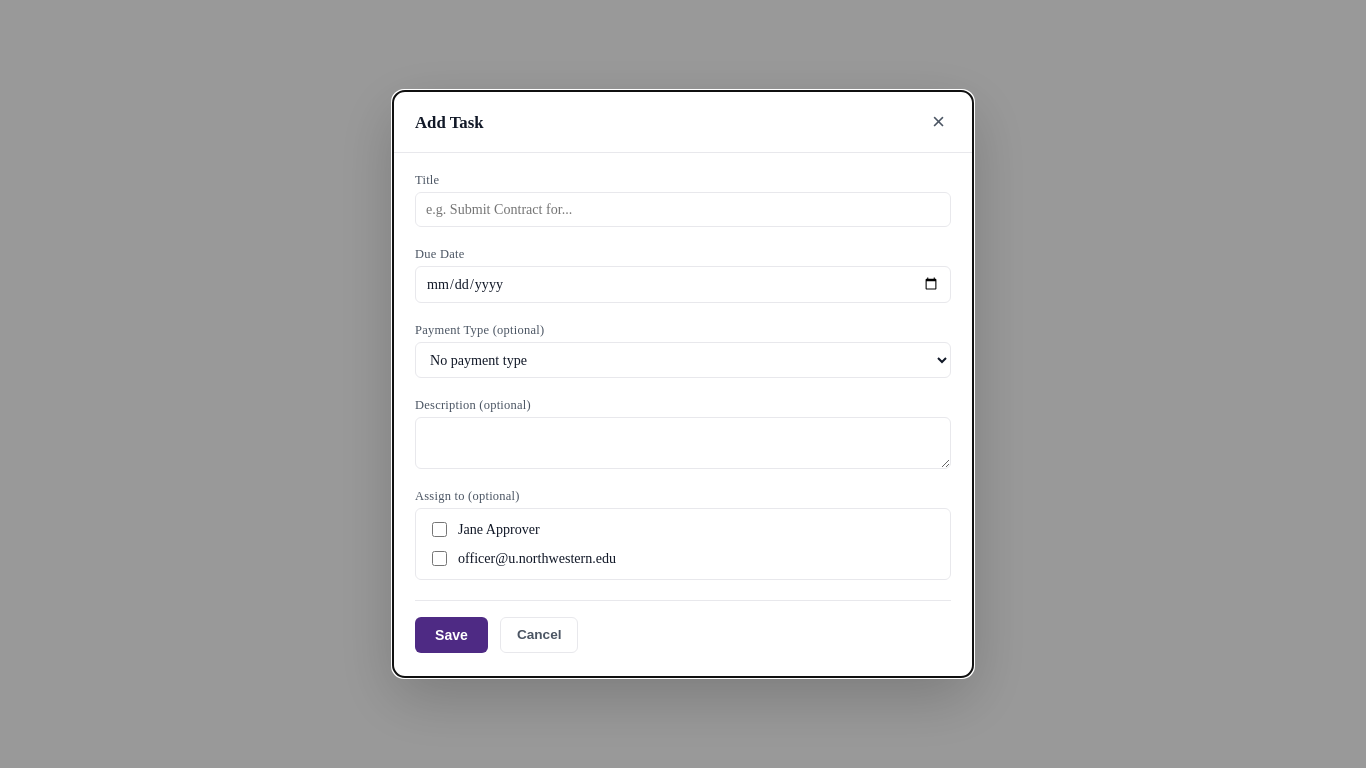
Scenario: TaskFormModal › shows a validation error and does not save when title is missing
Type "2026-09-25" into the date field labelled "Due Date" at (683,284), box [415, 266, 951, 303]
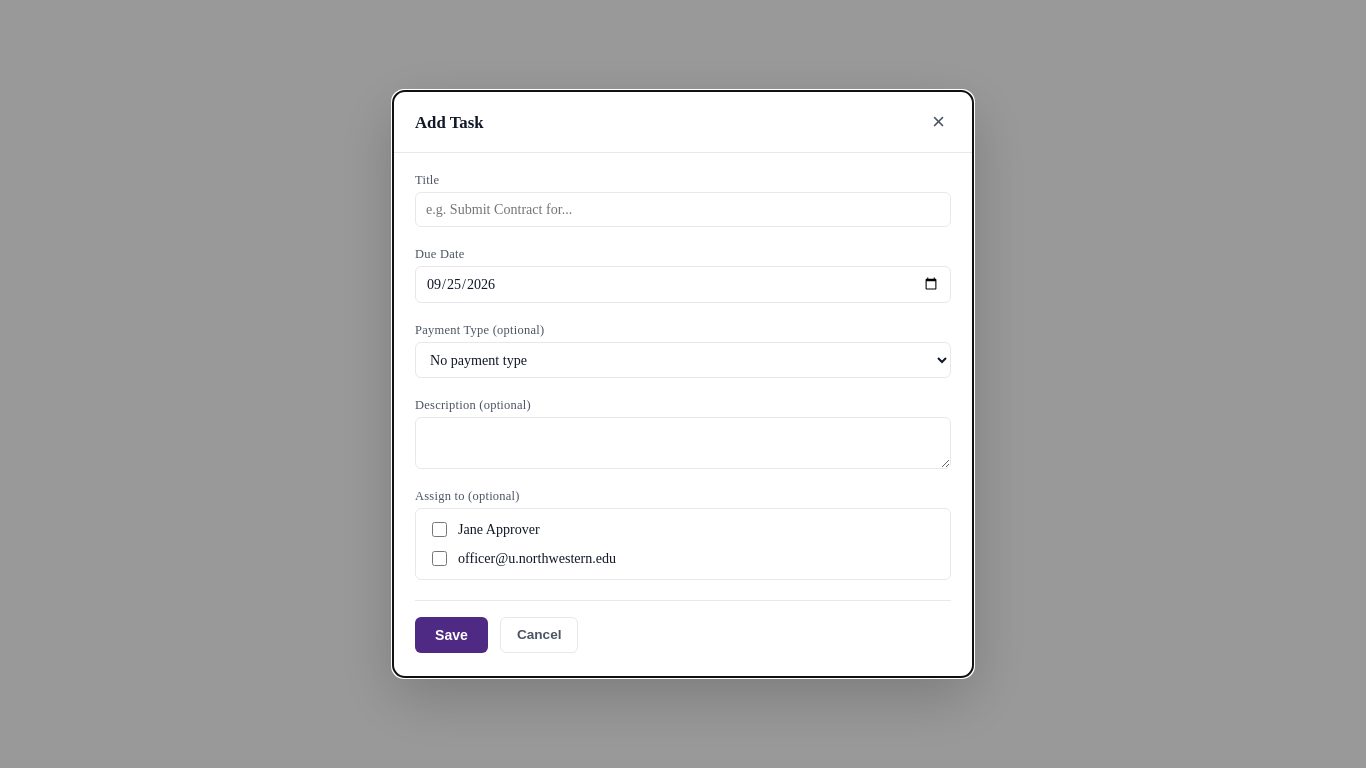
Click the button "Save" at (451,635), box [415, 617, 488, 653]
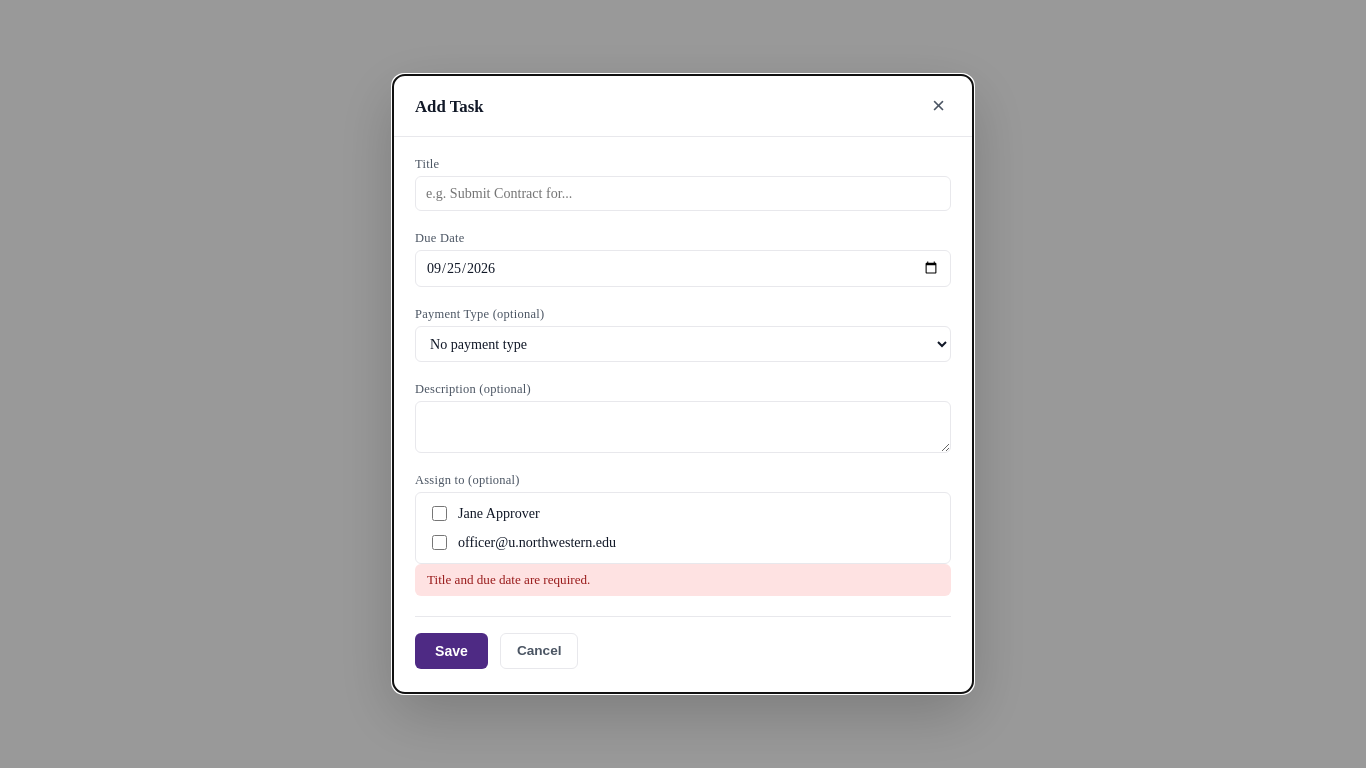
expect the text "Title and due date are required." is shown: met, box [415, 564, 951, 596]
